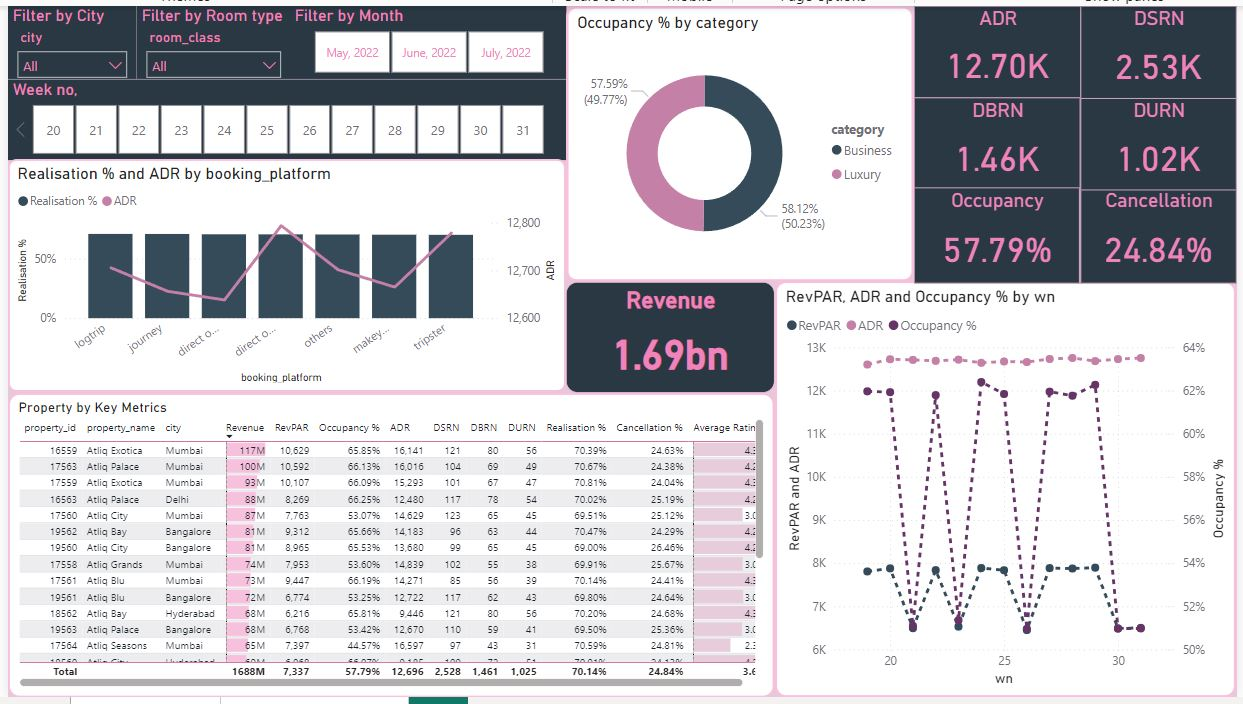

The page's visual inventory and layout, read from the dashboard file:
{"tool":"powerbi","page":{"name":"Dashboard","canvas":[1280,720],"ordinal":0},"visuals":[{"type":"tableEx","title":"Property by Key Metrics","fields":{"Values":["dim_hotels.property_id","dim_hotels.property_name","dim_hotels.city","key_measures.Revenue","key_measures.RevPAR","key_measures.Occupancy %","key_measures.ADR","key_measures.DSRN","key_measures.DBRN","key_measures.DURN","key_measures.Realisation %","key_measures.Cancellation %"]},"box":[0,402.9,798.6,317.1],"z":0},{"type":"slicer","title":"Filter by City","fields":{"Values":["dim_hotels.city"]},"box":[0,0,134,76],"z":1000},{"type":"slicer","title":"Filter by Room type","fields":{"Values":["dim_rooms.room_class"]},"box":[134,0,160,76],"z":2000},{"type":"slicer","title":"Filter by Month","fields":{"Values":["dim_date.mmm yy"]},"box":[294,0,288,76],"z":3000},{"type":"slicer","title":"Week no,","fields":{"Values":["dim_date.wn"]},"box":[0,76,582,84],"z":4000},{"type":"card","title":"Revenue","fields":{"Values":["key_measures.Revenue"]},"box":[581.4,287.6,217.3,115.7],"z":5000},{"type":"donutChart","fields":{"Category":["dim_hotels.category"],"Y":["key_measures.Occupancy %"]},"box":[581.4,0,362.6,287.6],"z":6000},{"type":"lineStackedColumnComboChart","fields":{"Y":["key_measures.Realisation %"],"Y2":["key_measures.ADR"],"Category":["fact_bookings.booking_platform"]},"box":[0,160,581.4,242.9],"z":7000},{"type":"lineChart","fields":{"Category":["dim_date.wn"],"Y":["key_measures.RevPAR","key_measures.ADR"],"Y2":["key_measures.Occupancy %"]},"box":[798.7,286,481.4,434.5],"z":8000},{"type":"card","title":"ADR","fields":{"Values":["key_measures.ADR"]},"box":[944.3,0,174.3,95.7],"z":9000},{"type":"card","title":"DBRN","fields":{"Values":["key_measures.DBRN"]},"box":[944,95.3,173.5,96.9],"z":10000},{"type":"card","title":"Occupancy","fields":{"Values":["key_measures.Occupancy %"]},"box":[944.1,189.8,172.9,100],"z":11000},{"type":"card","title":"Cancellation","fields":{"Values":["key_measures.Cancellation %"]},"box":[1117.5,189.1,162.6,100],"z":12000},{"type":"card","title":"DURN","fields":{"Values":["key_measures.DURN"]},"box":[1117.5,95.3,162.6,96.9],"z":12001},{"type":"card","title":"DSRN","fields":{"Values":["key_measures.DSRN"]},"box":[1117.5,0,162.6,96.9],"z":12002}]}

Visuals, with their boxes in screenshot pixels (x1, y1, x2, y2), scaled from the page's 1280x720 canvas onto the 1243x704 screenshot:
"Property by Key Metrics" tableEx: bbox(0, 394, 776, 703)
"Filter by City" slicer: bbox(0, 0, 130, 74)
"Filter by Room type" slicer: bbox(130, 0, 286, 74)
"Filter by Month" slicer: bbox(286, 0, 565, 74)
"Week no," slicer: bbox(0, 74, 565, 156)
"Revenue" card: bbox(565, 281, 776, 394)
donutChart - dim_hotels.category x key_measures.Occupancy %: bbox(565, 0, 917, 281)
lineStackedColumnComboChart - key_measures.Realisation % x key_measures.ADR: bbox(0, 156, 565, 394)
lineChart - dim_date.wn x key_measures.RevPAR: bbox(776, 280, 1242, 703)
"ADR" card: bbox(917, 0, 1086, 94)
"DBRN" card: bbox(917, 93, 1085, 188)
"Occupancy" card: bbox(917, 186, 1085, 283)
"Cancellation" card: bbox(1085, 185, 1242, 283)
"DURN" card: bbox(1085, 93, 1242, 188)
"DSRN" card: bbox(1085, 0, 1242, 95)
